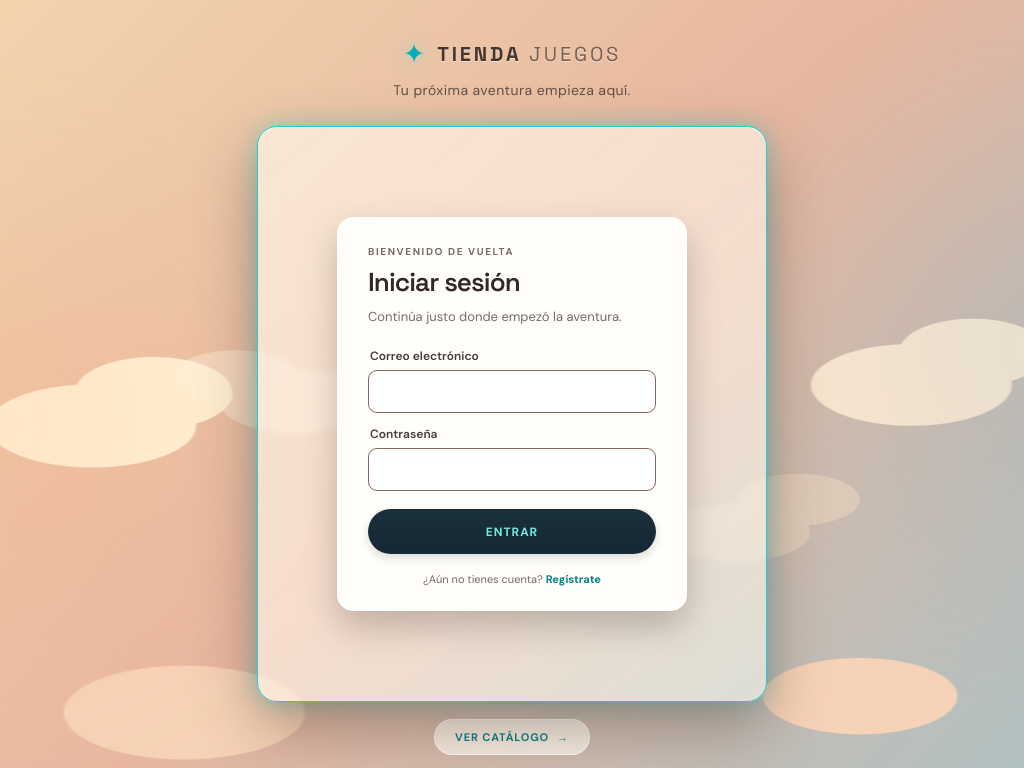
Test: AuthScreen › informa de errores inesperados durante el registro
The image size is (1024, 768).
Click the button "Regístrate" at (573, 579), box [546,572,601,586]
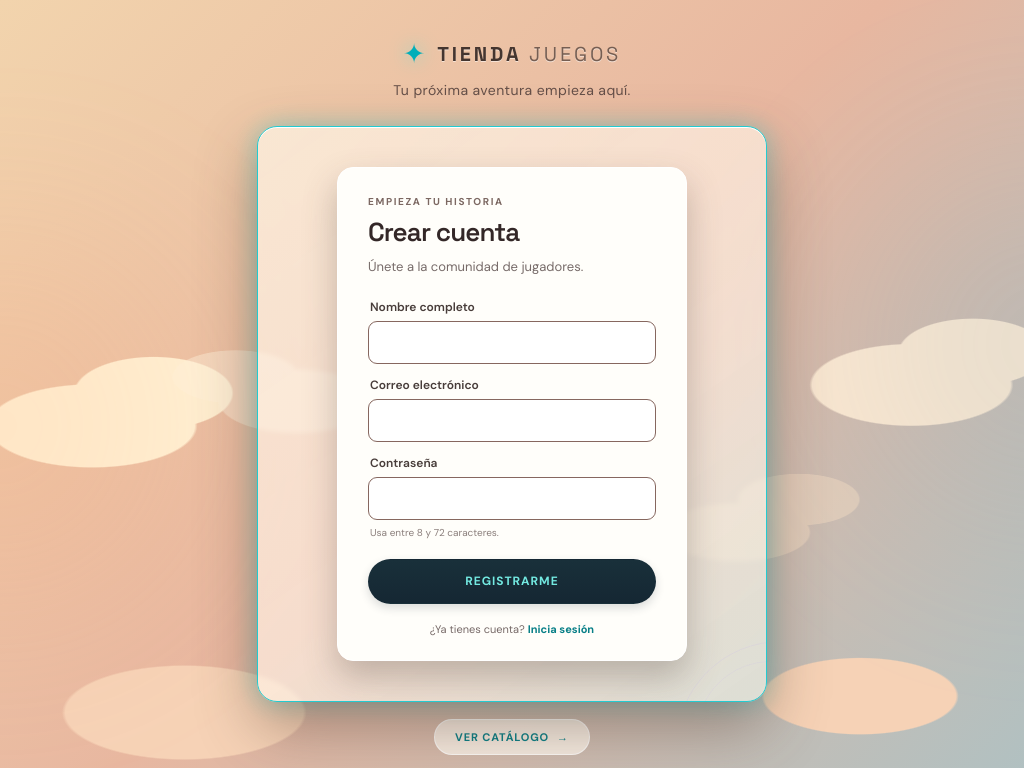
Check: the heading "Crear cuenta" is shown, box [368,215,519,249]
Type "Ana" into the field labelled "Nombre completo" at (512, 342), box [368,321,656,364]
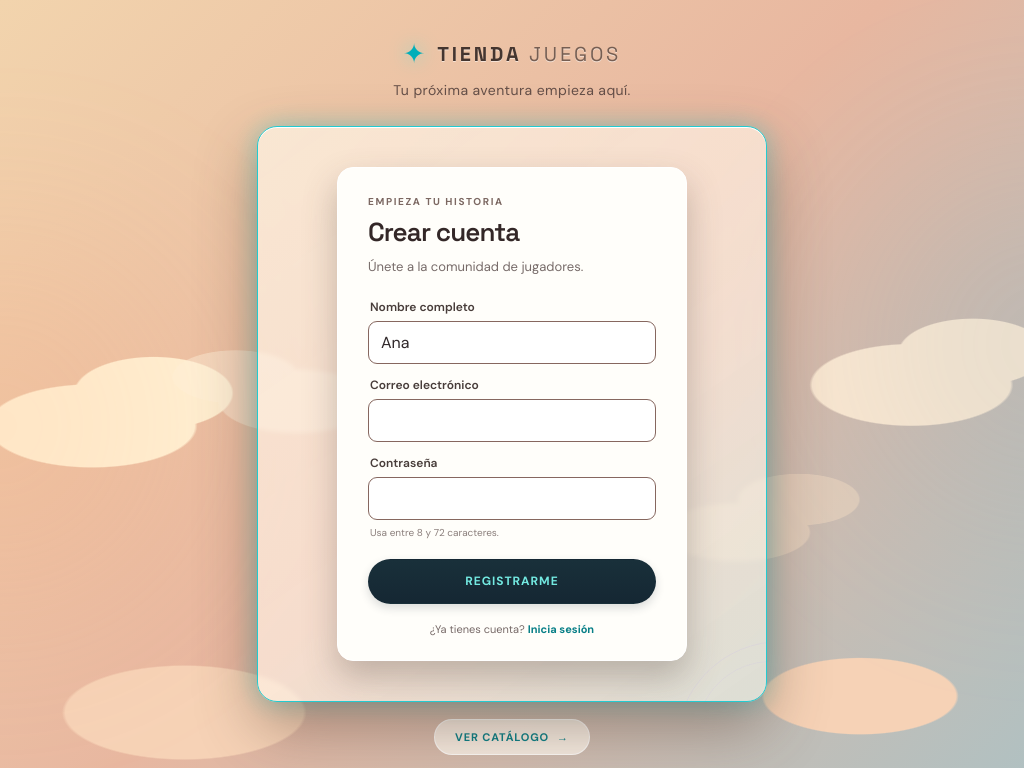
Type "ana@correo.com" into the field labelled "Correo electrónico" at (512, 420), box [368,399,656,442]
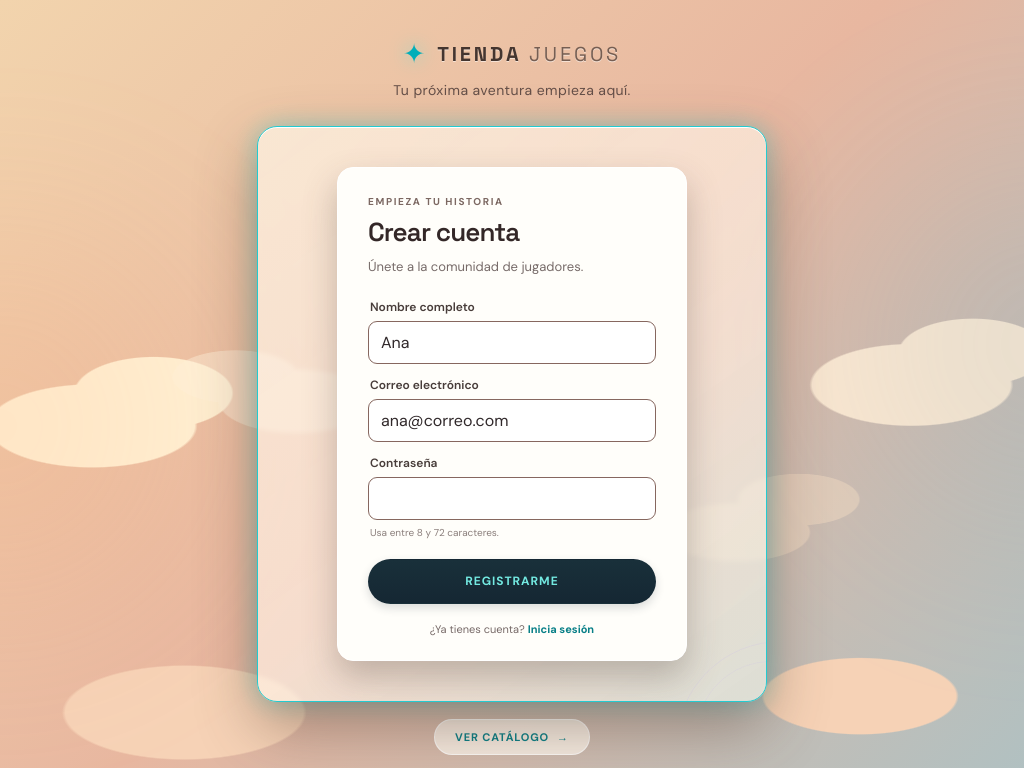
Type "12345678" into the password field labelled "Contraseña" at (512, 498), box [368,477,656,520]
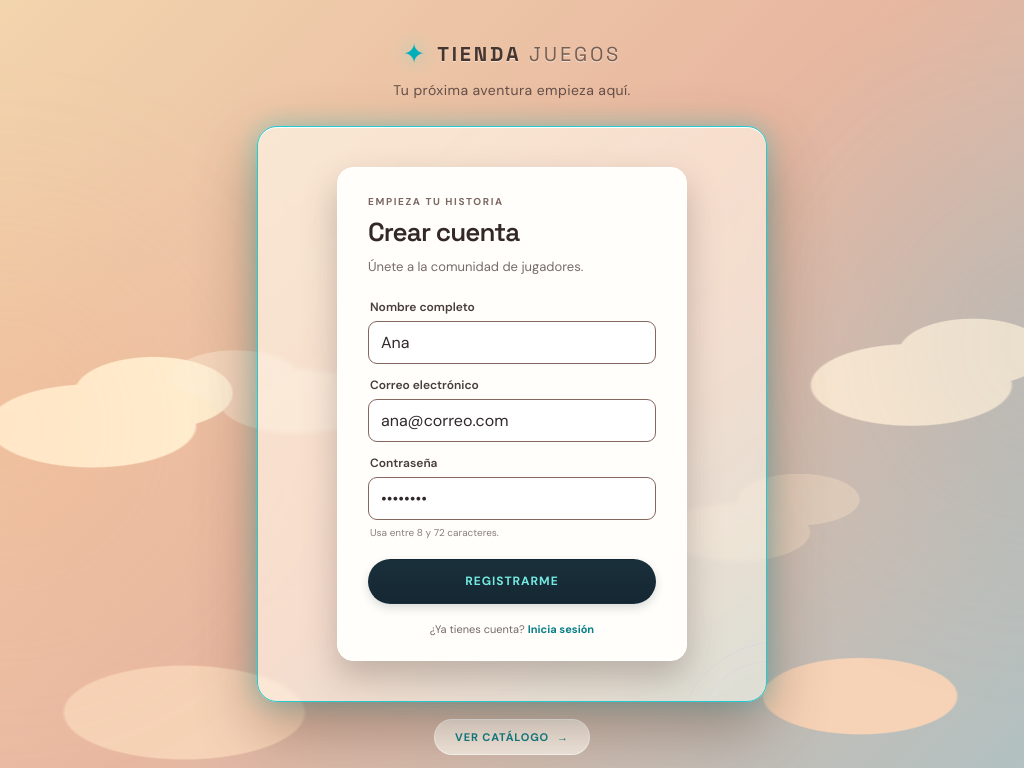
Click the button "Registrarme" at (512, 581), box [368,559,656,604]
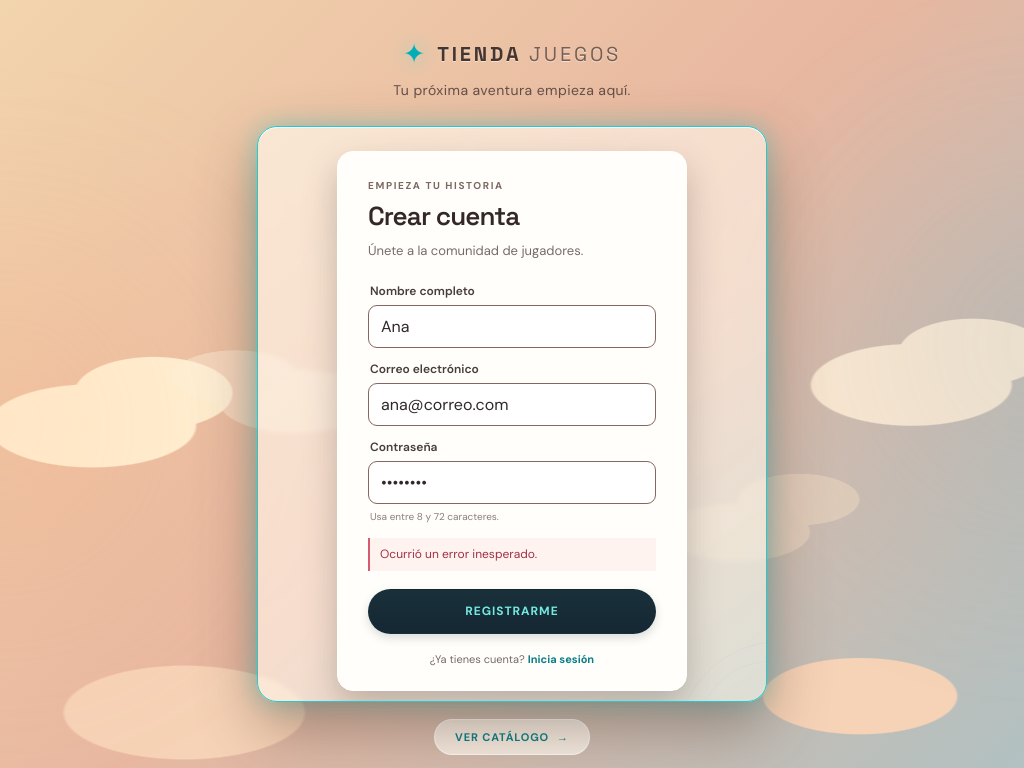
Check: the text "Ocurrió un error inesperado." is shown, box [368,538,656,571]
